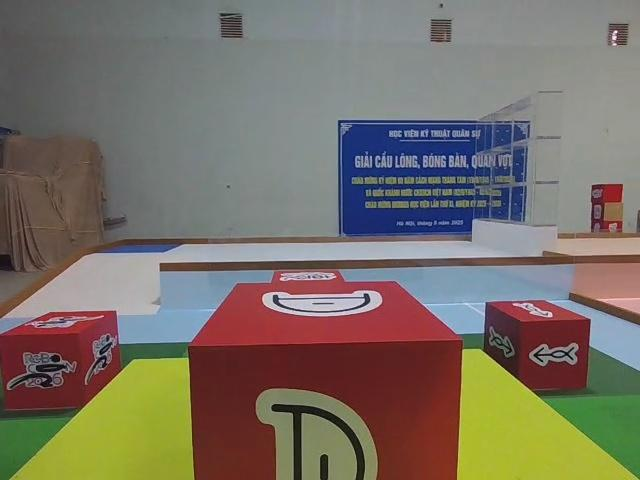R1: (1, 310, 121, 411)
R2 Real: (187, 278, 466, 480), (482, 299, 591, 391)
